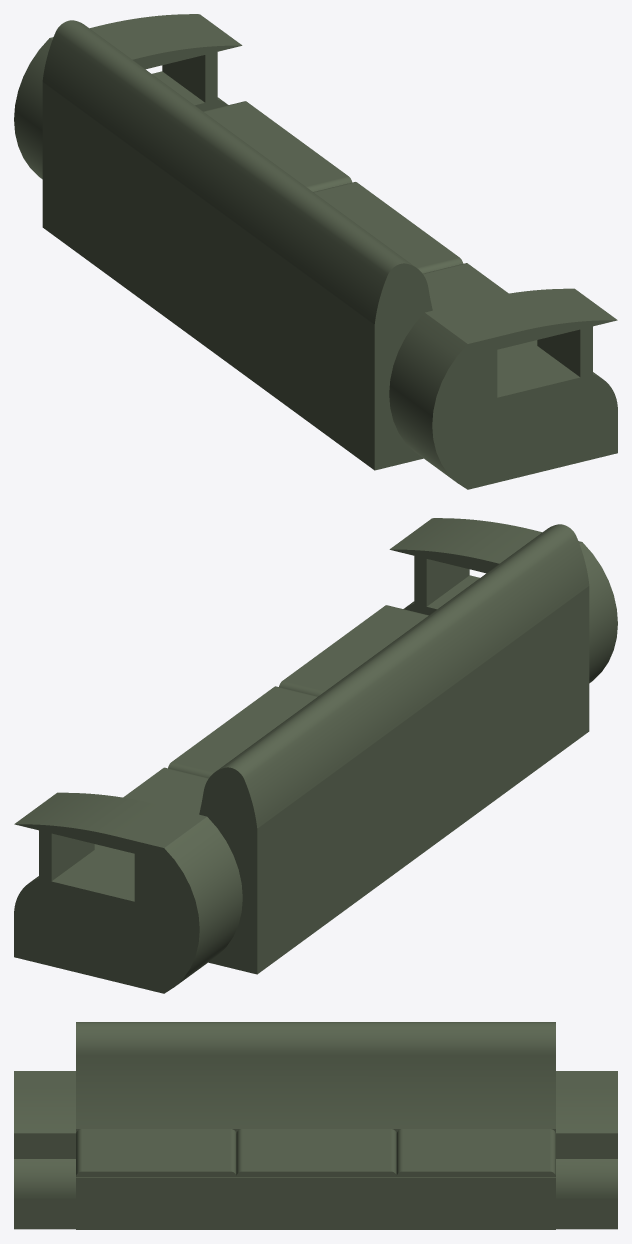
3 views of the same model, one above another, from view 1: azimuth 30°, elevation 25°; view 2: azimuth 150°, elevation 25°; view 3: azimuth 270°, elevation 25° (orthographic). The views are drawn at different scales.
Visible parts, largest first — view 1: SketchUp; view 2: SketchUp; view 3: SketchUp.
Part boxes in pixels (x1=…): SketchUp: x1=14, y1=14, x2=617, y2=489; SketchUp: x1=14, y1=518, x2=617, y2=993; SketchUp: x1=14, y1=1022, x2=617, y2=1229.
Bounding box in the file's own units: 56.88 × 204 × 53.78.
